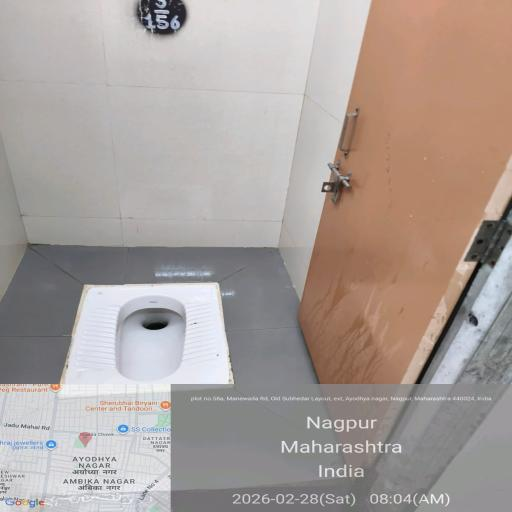clean_floor: (310, 26, 512, 389), (6, 0, 320, 229), (0, 240, 313, 402)
